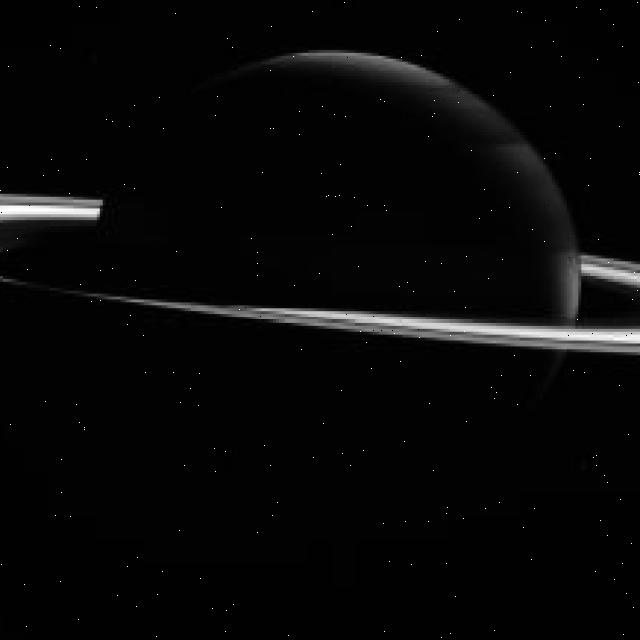Saturn: (0, 47, 640, 423)
